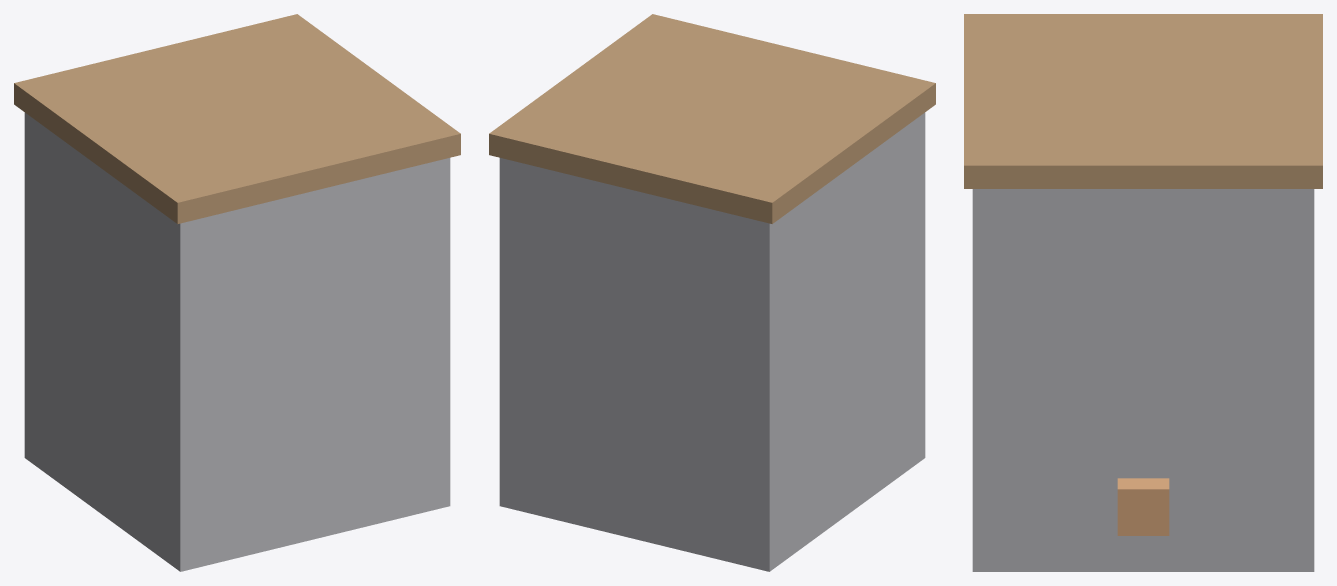
File: Prop_Water_AMF_Cistern_V6.glb
3 renders of one model, left to right at view 1: azimuth 30°, elevation 25°; view 2: azimuth 150°, elevation 25°; view 3: azimuth 270°, elevation 25°, orthographic. The views are drawn at different scales.
Visible parts, largest first — view 1: Prop_Water_AMF_Cistern_V6; view 2: Prop_Water_AMF_Cistern_V6; view 3: Prop_Water_AMF_Cistern_V6.
Part boxes in pixels (box(x1,y1,x2,y2)): Prop_Water_AMF_Cistern_V6: box(14, 14, 460, 571); Prop_Water_AMF_Cistern_V6: box(489, 14, 935, 571); Prop_Water_AMF_Cistern_V6: box(964, 14, 1322, 571).
Bounding box in the file's own units: 1.46 × 1.75 × 1.39.
